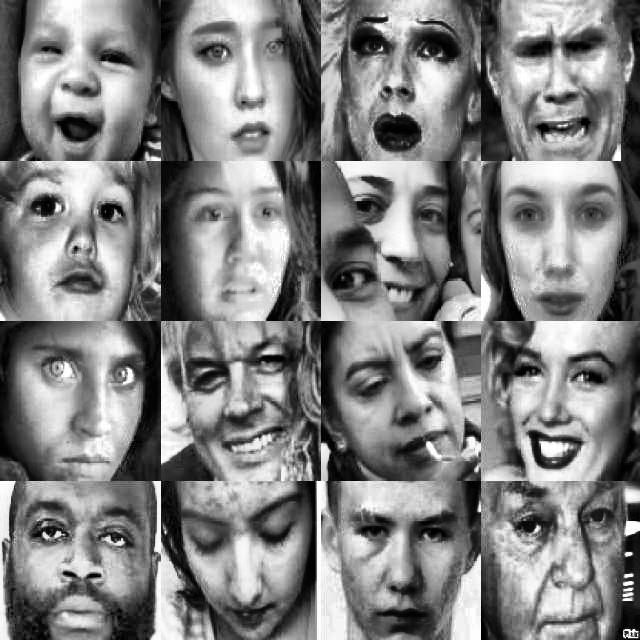angry: (348, 334, 472, 470)
fear: (346, 20, 460, 149), (182, 173, 290, 302)
happy: (25, 12, 147, 150), (514, 330, 626, 478), (183, 330, 301, 470), (347, 170, 471, 296)
neutral: (499, 487, 630, 635), (193, 488, 310, 628), (29, 338, 151, 470), (22, 168, 140, 300), (345, 501, 461, 633), (190, 20, 296, 158), (25, 506, 141, 626), (515, 188, 609, 310)
sad: (509, 28, 609, 156)
